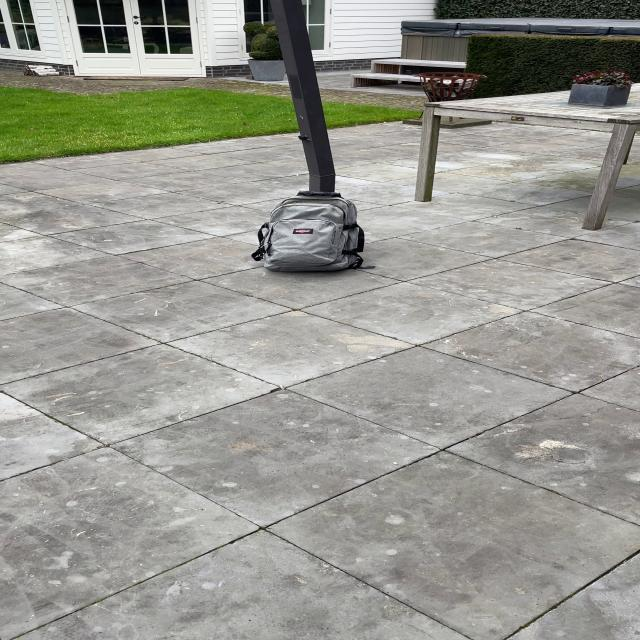backpack: (248, 188, 369, 276)
